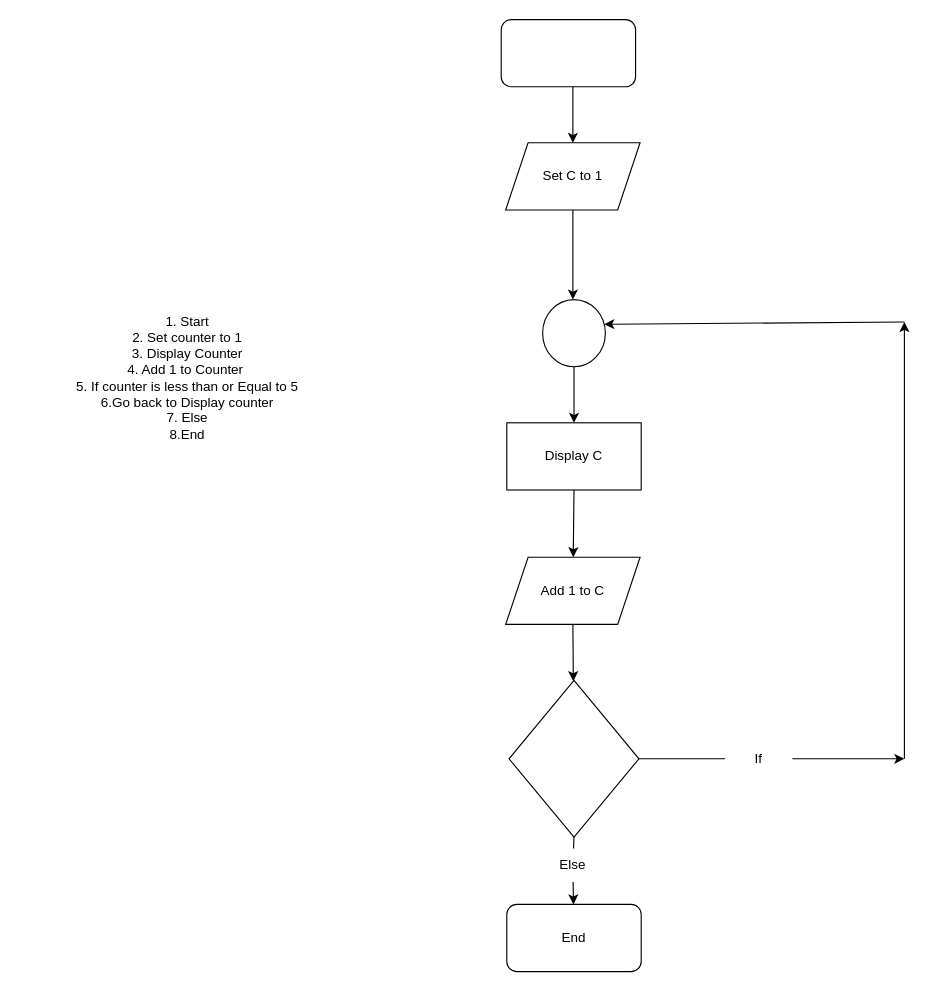
The diagram is 933 pixels wide and 991 high, and some of its shapes have lost their labels. The shapes that lost their labels are listed below. From the top down, each one's centre as x and y in pixels, then its label:
At point 568,52: "Start".
At point 573,758: "Less than or = to 5".
